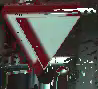Give way: (5, 2, 83, 75)
